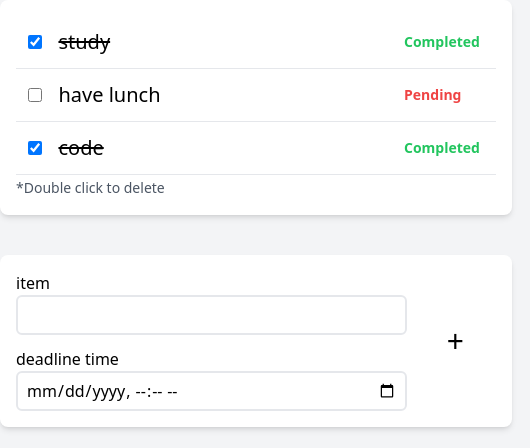
Scenario: todoList component › should delete a task from the list when its title is double-clicked
# 模擬雙擊任務標題
Double-click the text "study".
double_click(84, 42)  # box [58, 28, 110, 55]
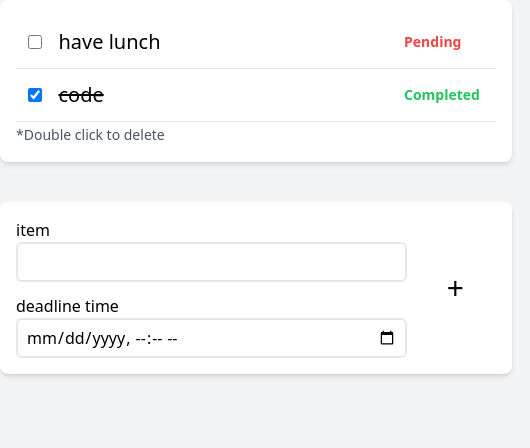
Result: the text "study" is gone
